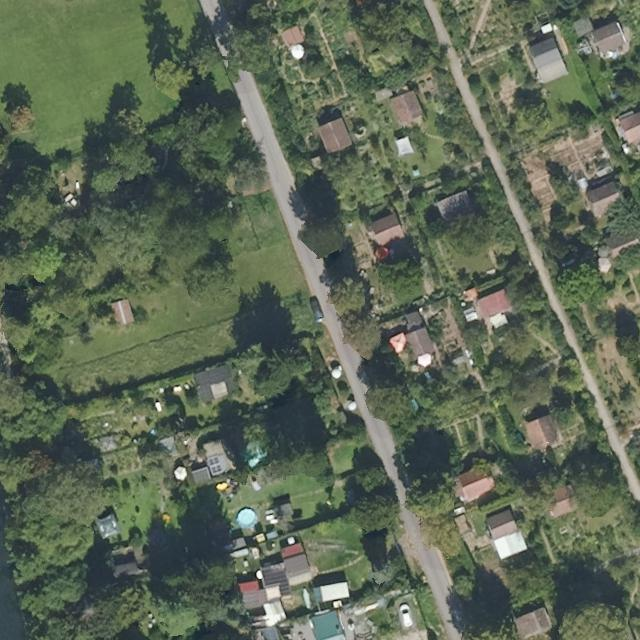PV: (208, 456, 224, 475)
